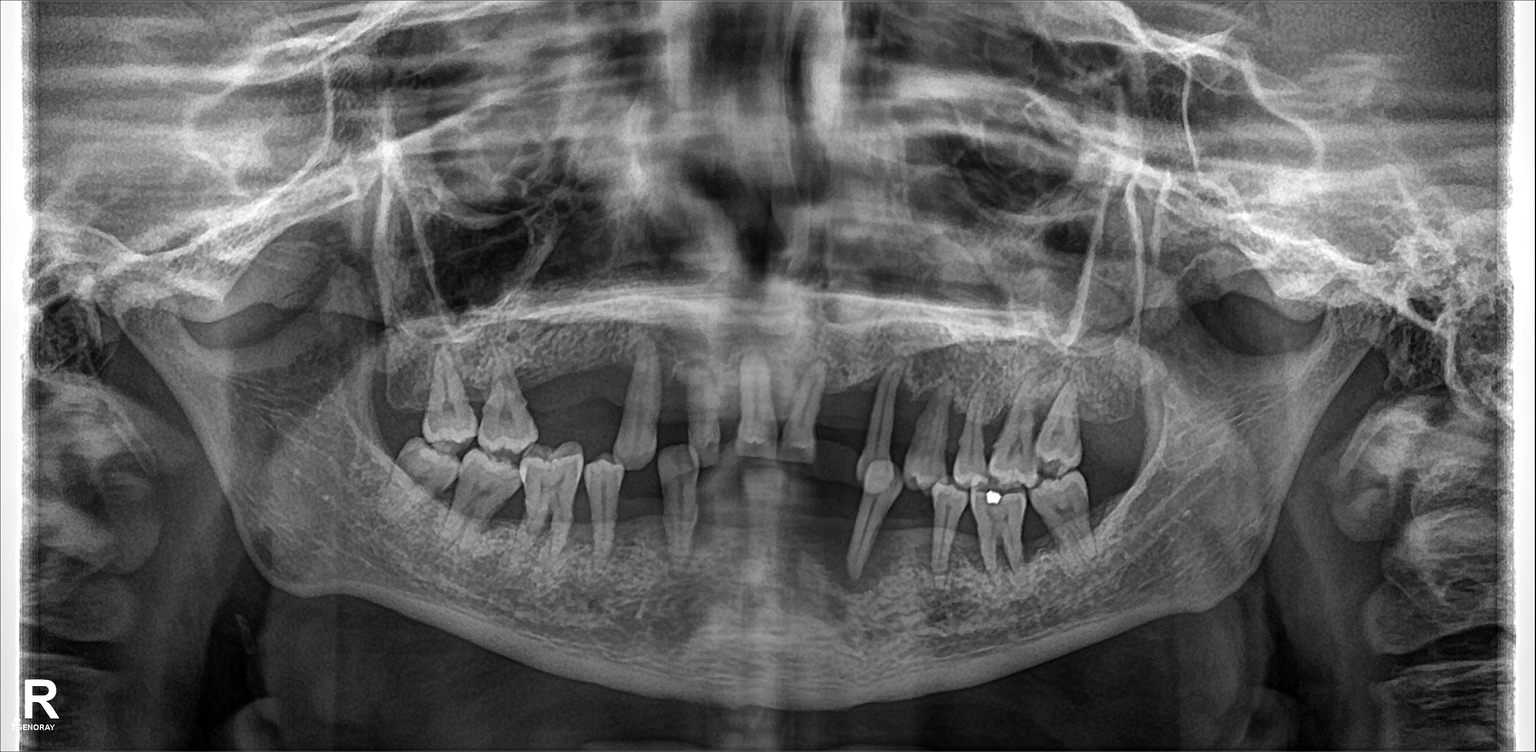Missing Tooth: (750, 469, 796, 572), (613, 465, 667, 551), (799, 478, 845, 573), (825, 370, 870, 459), (374, 350, 423, 428), (533, 352, 574, 441), (657, 352, 691, 456), (708, 475, 751, 557), (581, 354, 618, 444), (1095, 478, 1138, 553), (1088, 395, 1131, 465), (894, 497, 931, 570)
